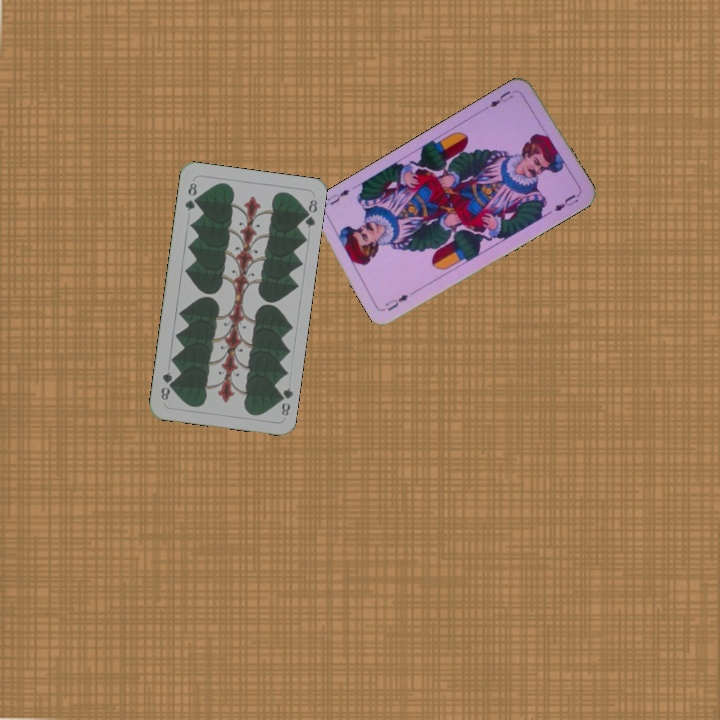EU: (481, 87, 516, 112), (381, 290, 411, 314)
G8: (274, 383, 295, 418), (181, 178, 200, 214)
